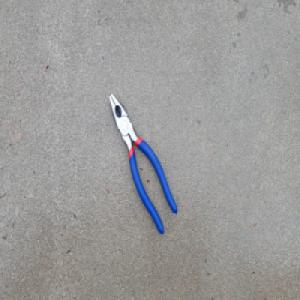Pliers: (109, 91, 178, 236)
